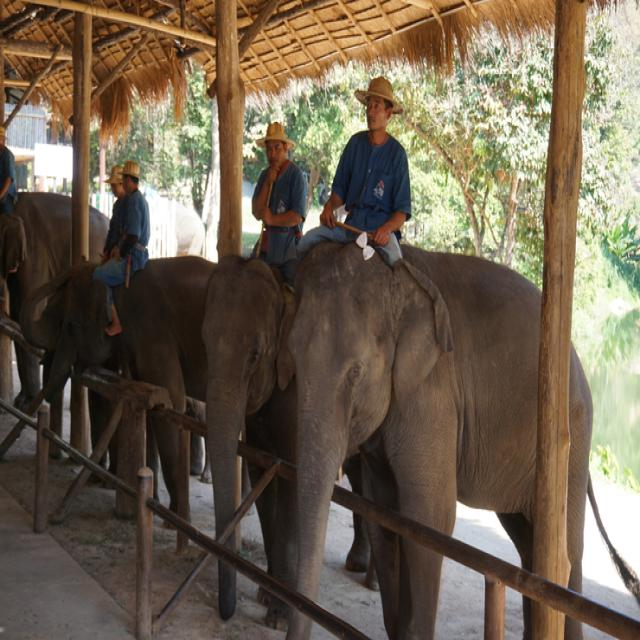Elephant: (262, 226, 620, 637), (30, 218, 214, 583), (192, 193, 306, 632)
person: (325, 77, 415, 259), (93, 164, 157, 324), (252, 123, 302, 258)
